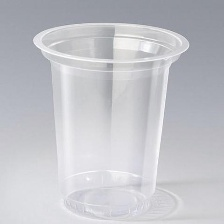glass: (24, 15, 194, 223)
